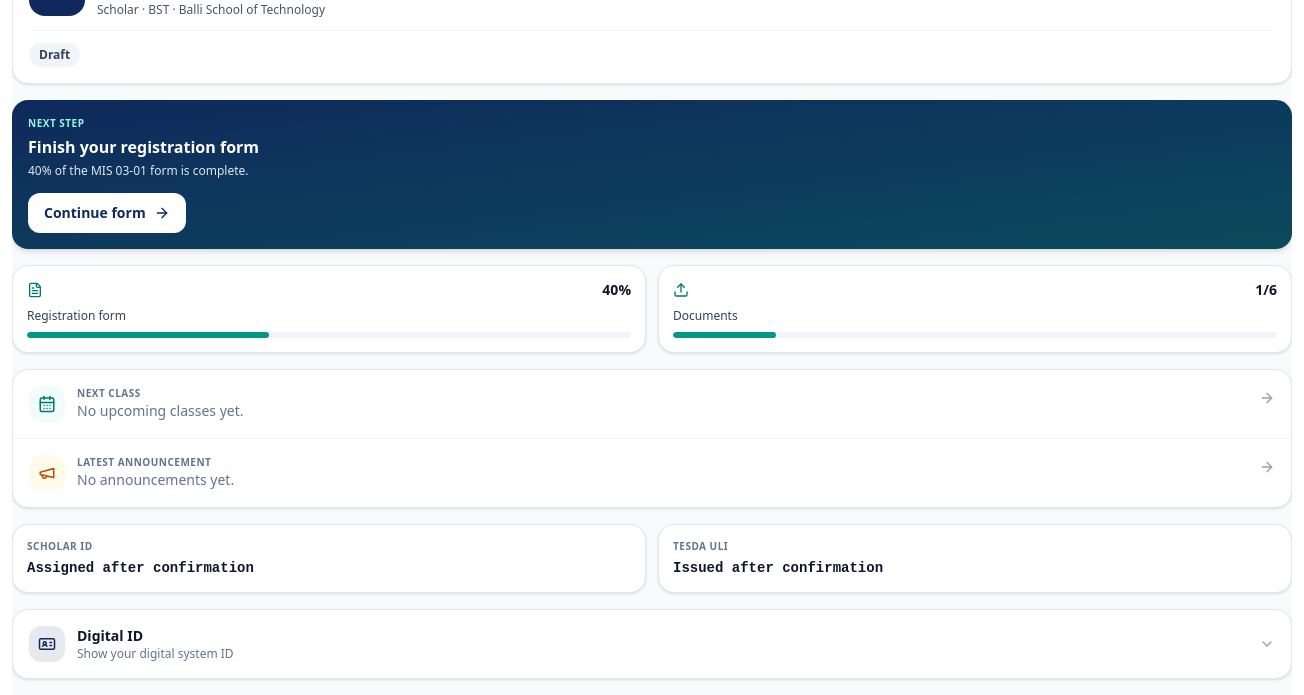
Test: Scholar home › keeps the heavy digital ID card collapsed until the learner asks for it
This screenshot has width=1304, height=695.
(page scrolled)
Click the button "Digital ID Show your digital system ID" at (47, 644), box [13,610,1291,678]
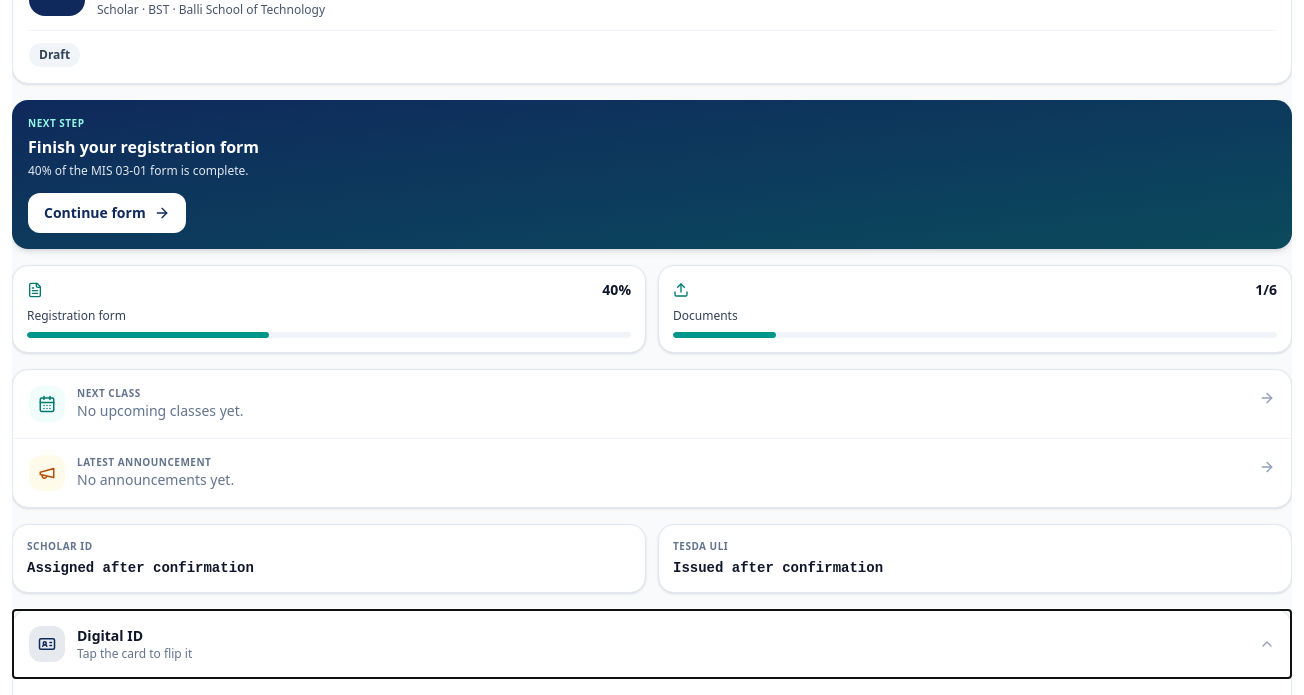
expect the button "Digital ID Tap the card to flip it" is expanded: met, box [13,610,1291,678]
